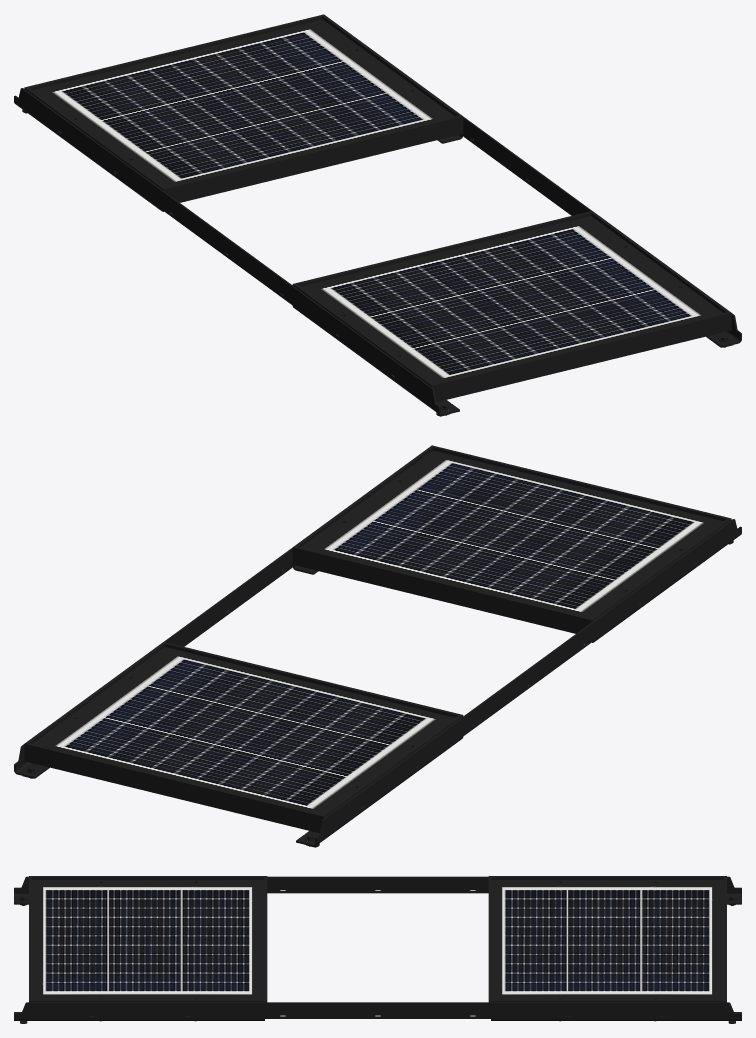
3 views of the same model, one above another, from view 1: azimuth 30°, elevation 25°; view 2: azimuth 150°, elevation 25°; view 3: azimuth 270°, elevation 25° (orthographic). The views are drawn at different scales.
Visible parts, largest first — view 1: solar55; view 2: solar55; view 3: solar55.
Boxes of the visible parts, <box> form: solar55: <box>14,14,741,416</box>; solar55: <box>14,445,741,847</box>; solar55: <box>14,876,741,1023</box>.
Size of the model in its own units: 0.6396 by 0.0595 by 1.56.
Materials: 1 (1 with a texture image).
